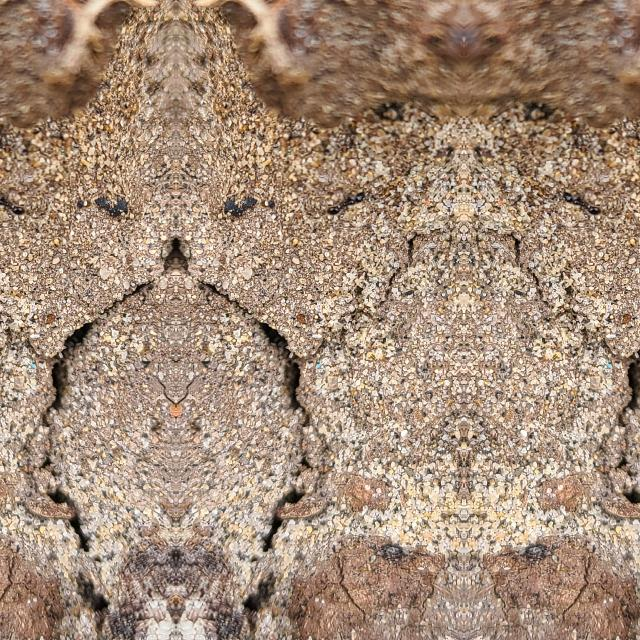Messor: (322, 184, 372, 220), (554, 184, 604, 220), (0, 184, 27, 220)
